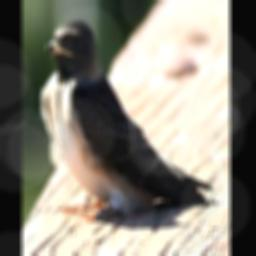Swallow: (40, 17, 216, 224)
